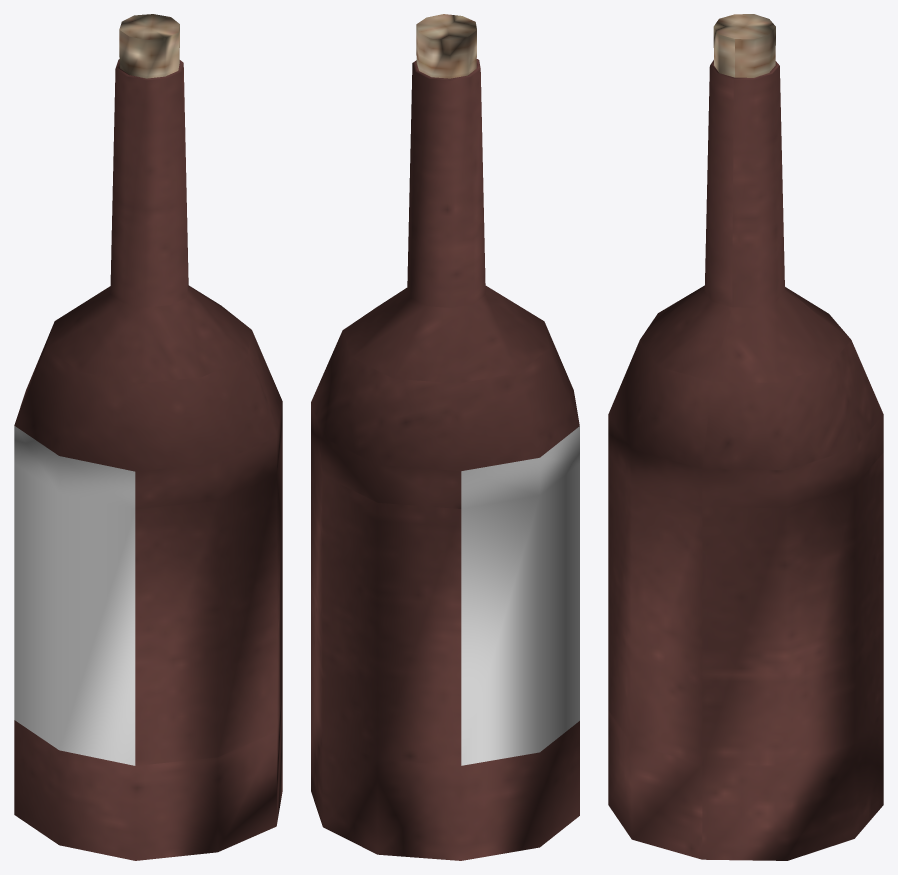
File: MS_Bottle_1c.fbx
3 views of the same model, side by side, from view 1: azimuth 30°, elevation 25°; view 2: azimuth 150°, elevation 25°; view 3: azimuth 270°, elevation 25° (orthographic).
Parts seen in each view (by area): view 1: MSH_Bottle_01; view 2: MSH_Bottle_01; view 3: MSH_Bottle_01.
Part boxes in pixels (bbox=[...]): MSH_Bottle_01: bbox=[14, 14, 282, 860]; MSH_Bottle_01: bbox=[311, 14, 579, 860]; MSH_Bottle_01: bbox=[608, 14, 883, 860].
Size of the model in its own units: 7.48 by 24.28 by 7.78.
